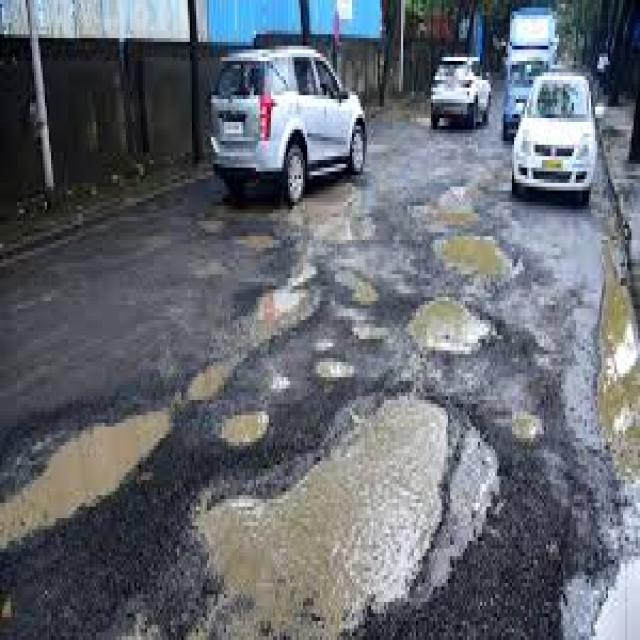Pothole: (169, 396, 499, 640), (431, 187, 506, 278), (407, 297, 491, 354)
